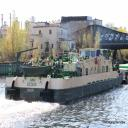tugboat: (6, 45, 126, 107)
